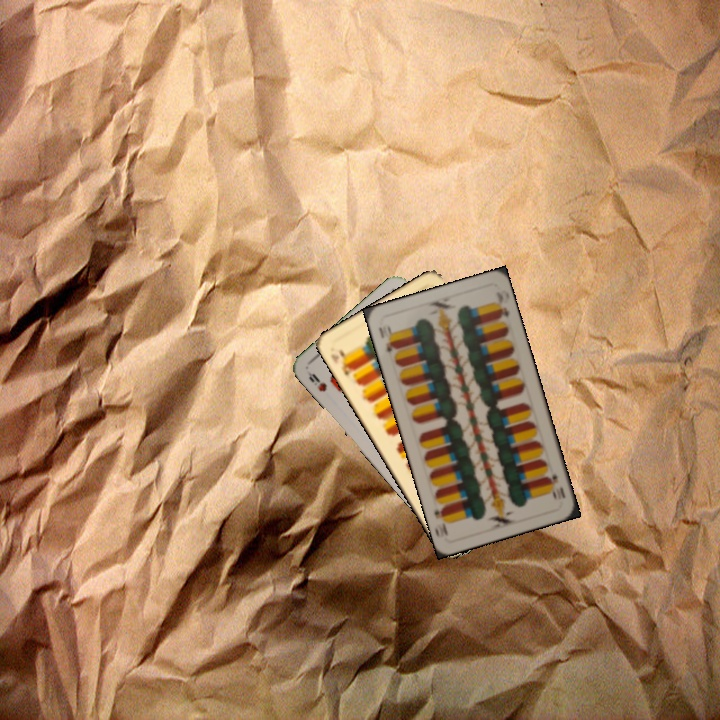E10: (543, 469, 568, 502), (375, 321, 399, 355), (335, 345, 357, 378)
H9: (303, 367, 329, 394)
